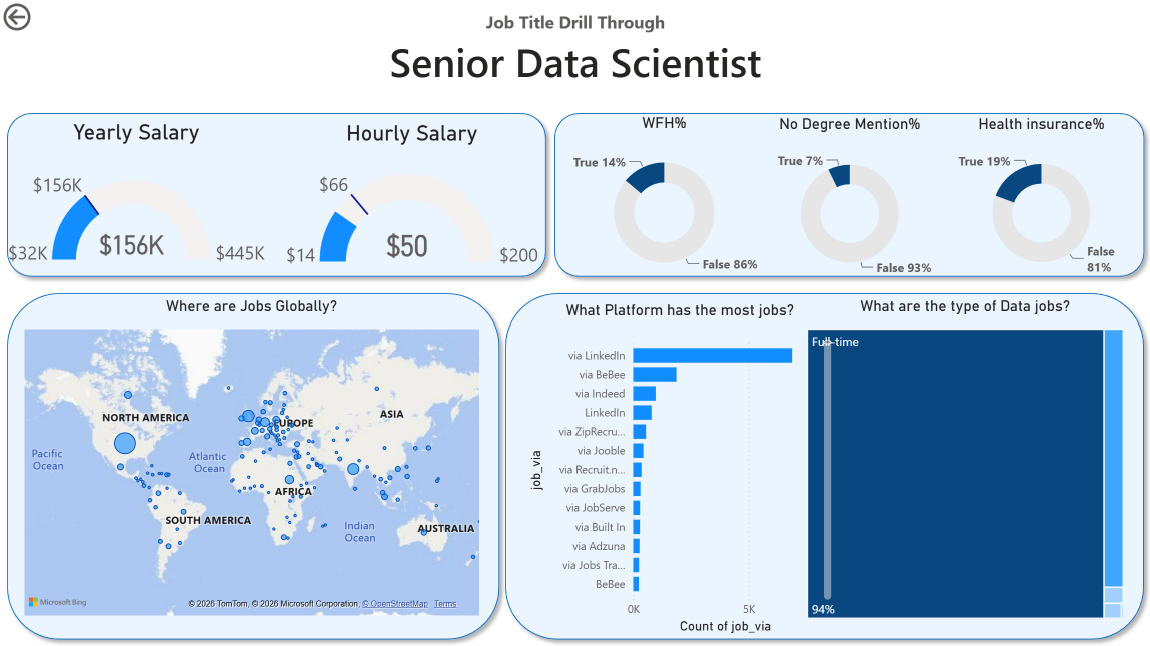

Layout of this report page (visuals, bound fields, positions):
{"tool":"powerbi","page":{"name":"Job Title Drill Through","canvas":[1280,720],"ordinal":1},"visuals":[{"type":"group","id":"g1","title":"Back Ground","box":[0,118.2,1280,601.5],"z":500},{"type":"cardVisual","fields":{"Data":["Min(job_postings_flat.job_title_short)"]},"box":[344.3,0,591.4,110.7],"z":1000},{"type":"actionButton","box":[0,0,100,40],"z":2000},{"type":"gauge","title":"Yearly Salary","fields":{"Y":["Median(job_postings_flat.salary_year_avg)"],"MinValue":["Min(job_postings_flat.salary_year_avg)1"],"MaxValue":["Max(job_postings_flat.salary_year_avg)2"],"TargetValue":["Avg(job_postings_flat.salary_year_avg)3"]},"box":[0,133.8,305.1,175.5],"z":3000},{"type":"gauge","title":"Hourly Salary","fields":{"Y":["Median(job_postings_flat.salary_hour_avg)"],"MinValue":["Min(job_postings_flat.salary_hour_avg)"],"MaxValue":["Max(job_postings_flat.salary_hour_avg)"],"TargetValue":["Avg(job_postings_flat.salary_hour_avg)"]},"box":[308.4,134.7,299.7,174.2],"z":4000},{"type":"donutChart","title":"WFH%","fields":{"Category":["job_postings_flat.job_work_from_home"],"Y":["CountNonNull(job_postings_flat.job_work_from_home)"]},"box":[616.5,127.4,243,189],"z":5000},{"type":"donutChart","title":"No Degree Mention%","fields":{"Category":["job_postings_flat.job_no_degree_mention"],"Y":["CountNonNull(job_postings_flat.job_work_from_home)"]},"box":[835.7,128.6,217.4,189],"z":6000},{"type":"donutChart","title":"Health insurance%","fields":{"Category":["job_postings_flat.job_health_insurance"],"Y":["CountNonNull(job_postings_flat.job_work_from_home)"]},"box":[1044.7,128.6,225.5,187.7],"z":7000},{"type":"map","title":"Where are Jobs Globally?","fields":{"Category":["job_postings_flat.job_country"],"Size":["CountNonNull(job_postings_flat.job_title_short)"]},"box":[23.3,331.3,514.8,357.7],"z":8000},{"type":"treemap","title":"What are the type of Data jobs?","fields":{"Group":["job_postings_flat.job_schedule_type"],"Values":["CountNonNull(job_postings_flat.job_schedule_type)"]},"box":[892.7,331.3,360.8,360.8],"z":9000},{"type":"barChart","title":"What Platform has the most jobs?","fields":{"Category":["job_postings_flat.job_via"],"Y":["CountNonNull(job_postings_flat.job_via)"]},"box":[583.2,335.9,345.3,373.3],"z":10000},{"type":"shape","box":[607.3,118.2,672.7,199.7],"z":12125,"group":"g1"},{"type":"shape","box":[0,317.9,564.8,401.8],"z":12250,"group":"g1"},{"type":"shape","box":[0,118.2,616.5,199.7],"z":12500,"group":"g1"},{"type":"shape","box":[553.3,317.9,726.7,401.8],"z":13000,"group":"g1"}]}

Visuals, with their boxes in screenshot pixels (x1, y1, x2, y2), scaled from the page's 1280x720 canvas onto the 1150x646 screenshot:
"Back Ground" group: [x1=0, y1=106, x2=1149, y2=645]
cardVisual - Min(job_postings_flat.job_title_short): [x1=309, y1=0, x2=841, y2=99]
actionButton: [x1=0, y1=0, x2=90, y2=36]
"Yearly Salary" gauge: [x1=0, y1=120, x2=274, y2=278]
"Hourly Salary" gauge: [x1=277, y1=121, x2=546, y2=277]
"WFH%" donutChart: [x1=554, y1=114, x2=772, y2=284]
"No Degree Mention%" donutChart: [x1=751, y1=115, x2=946, y2=285]
"Health insurance%" donutChart: [x1=939, y1=115, x2=1141, y2=284]
"Where are Jobs Globally?" map: [x1=21, y1=297, x2=483, y2=618]
"What are the type of Data jobs?" treemap: [x1=802, y1=297, x2=1126, y2=621]
"What Platform has the most jobs?" barChart: [x1=524, y1=301, x2=834, y2=636]
shape: [x1=546, y1=106, x2=1149, y2=285]
shape: [x1=0, y1=285, x2=507, y2=645]
shape: [x1=0, y1=106, x2=554, y2=285]
shape: [x1=497, y1=285, x2=1149, y2=645]
